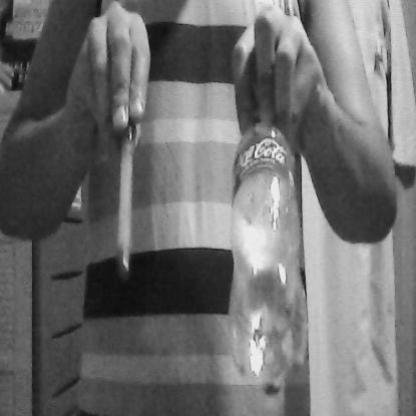Plastic Bottle: (223, 54, 316, 408)
